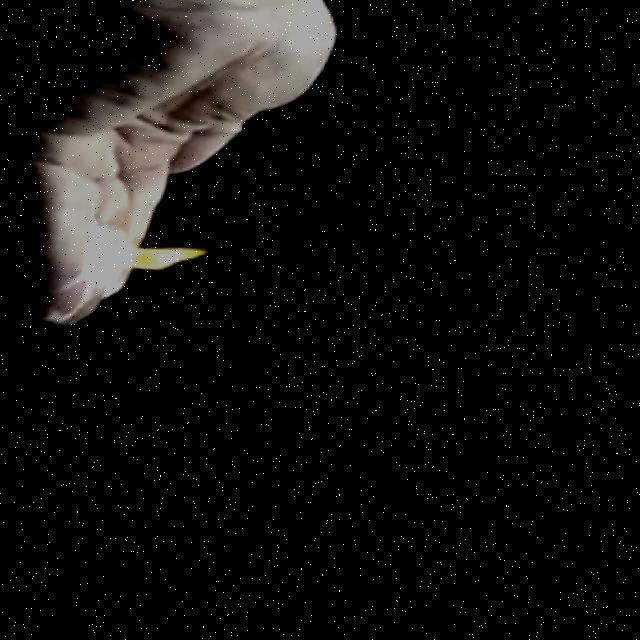Fire: (85, 220, 229, 291)
